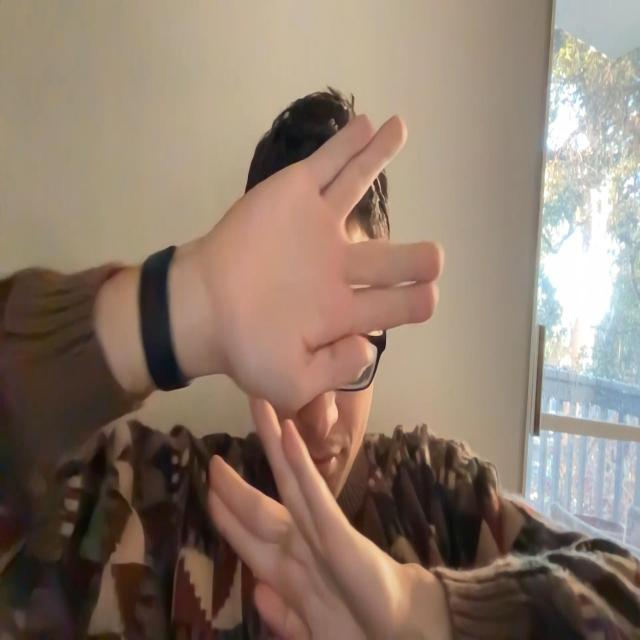face: (252, 236, 381, 503)
